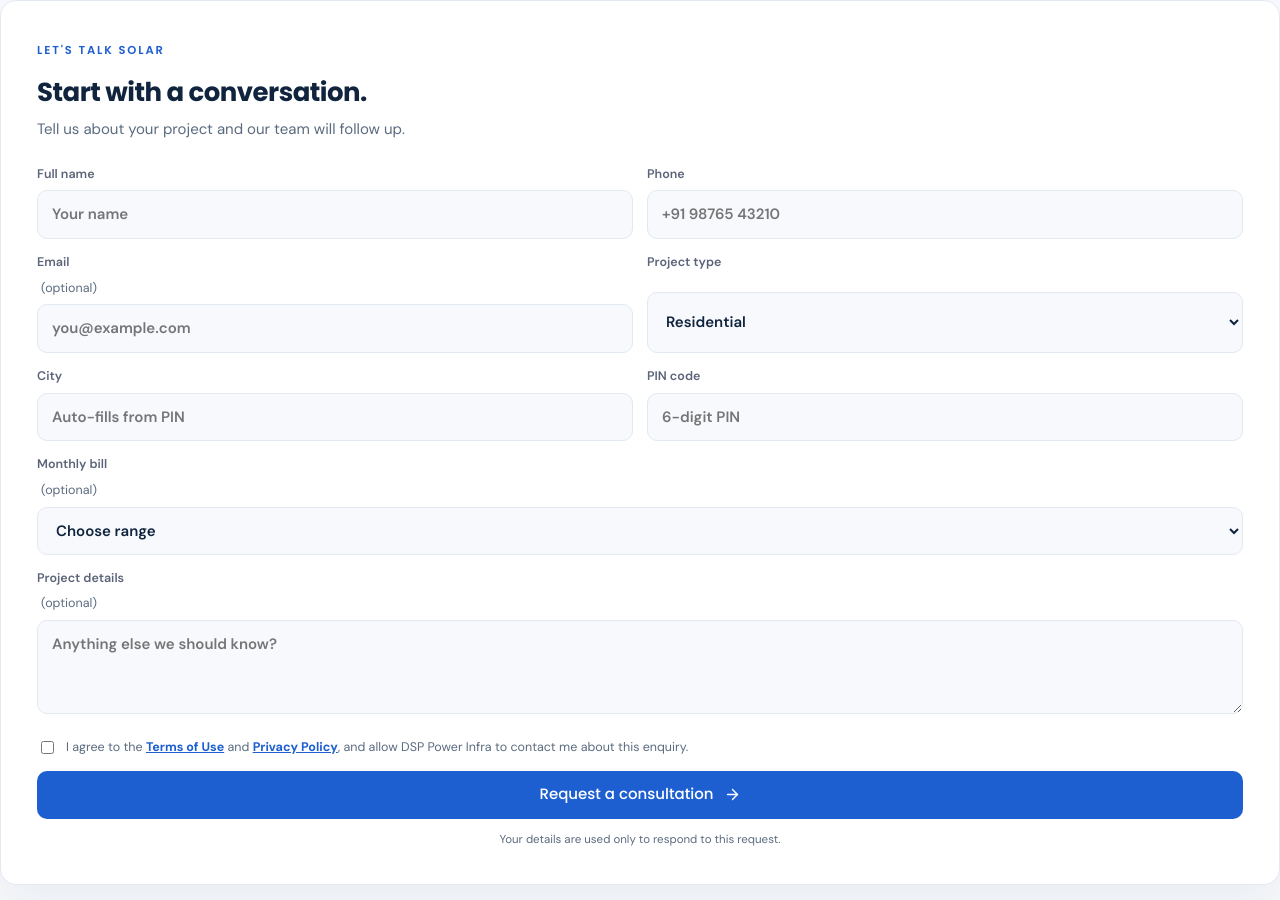
Scenario: LeadForm › TC-FORM-14: any Indian PIN resolves through the lookup and the city says where it came from
The image size is (1280, 900).
Type "413517" into the field labelled "PIN code" at point(945, 417), box [647,392,1243,441]
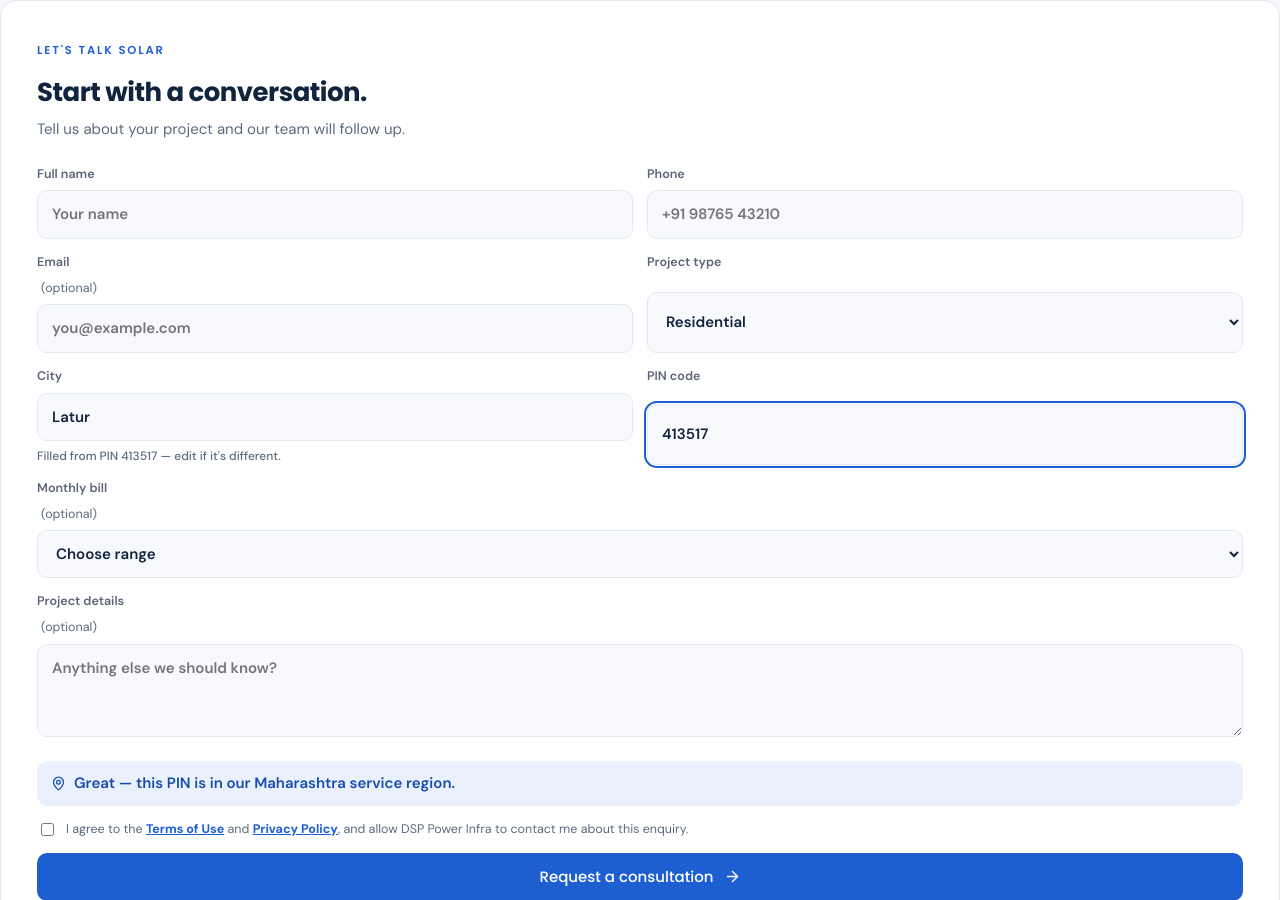
Expected: the field labelled "City Filled from PIN 413517 — edit if it's different." holds "Latur", [37,392,633,441]
Expected: the text "Filled from PIN 413517 — edit if it's different." is shown, [37,448,281,464]
